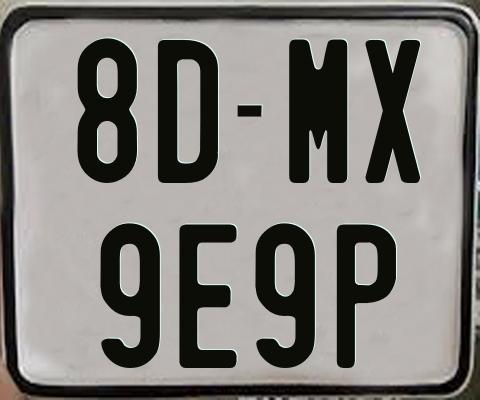8: (74, 37, 136, 182)
9: (253, 221, 319, 372), (98, 221, 164, 368)
D: (156, 38, 221, 182)
E: (178, 222, 237, 367)
M: (288, 38, 349, 188)
P: (334, 223, 398, 369)
X: (365, 38, 420, 185)
